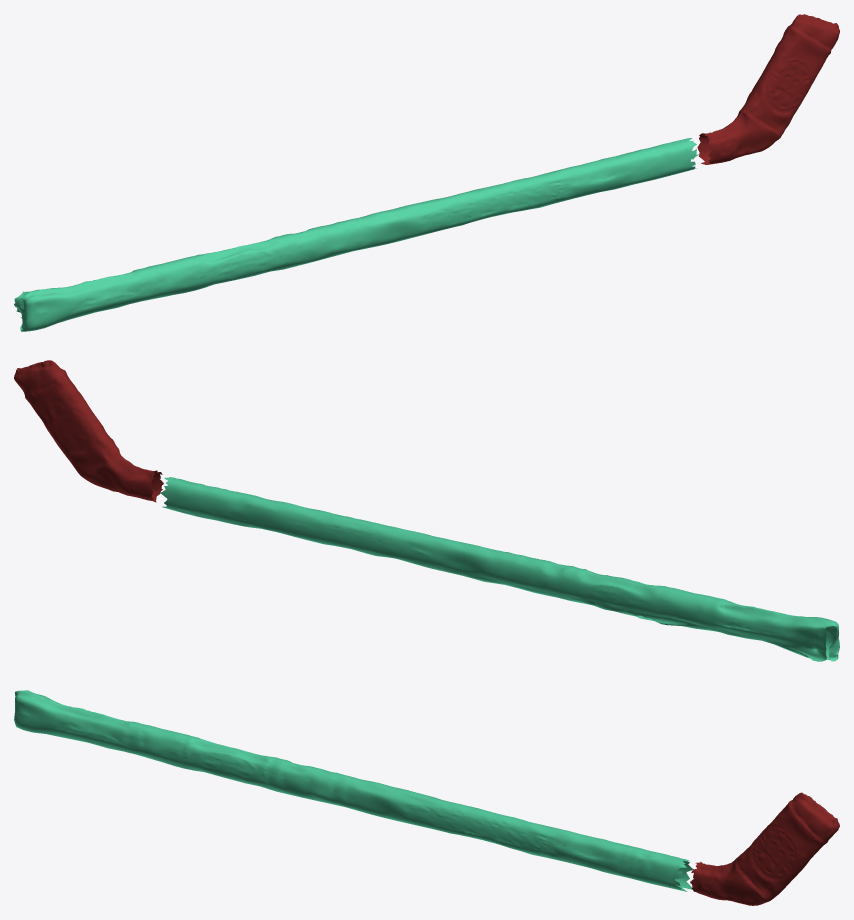
Rendered from object_deformed_8.obj.
The picture shows the model from 3 angles, top to bottom: view 1: azimuth 30°, elevation 25°; view 2: azimuth 150°, elevation 25°; view 3: azimuth 330°, elevation 25°; orthographic projection.
Bounding box in the file's own units: 1.17 × 0.1685 × 0.0517.
